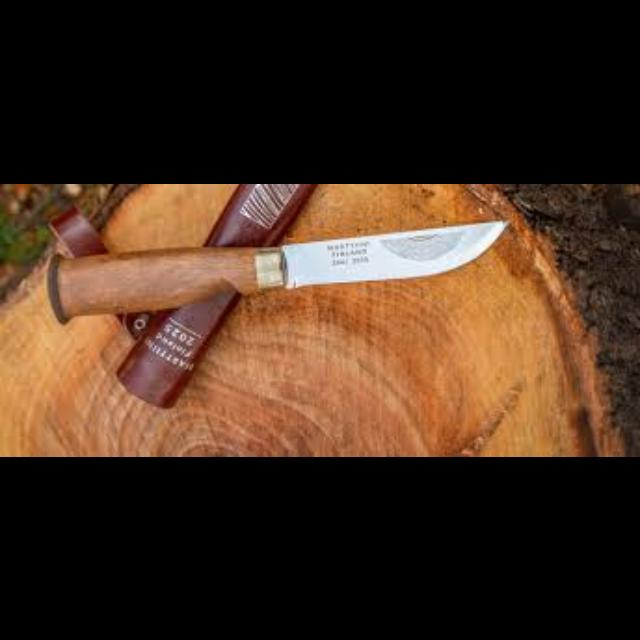Knife: (47, 217, 510, 323), (286, 218, 508, 296)
